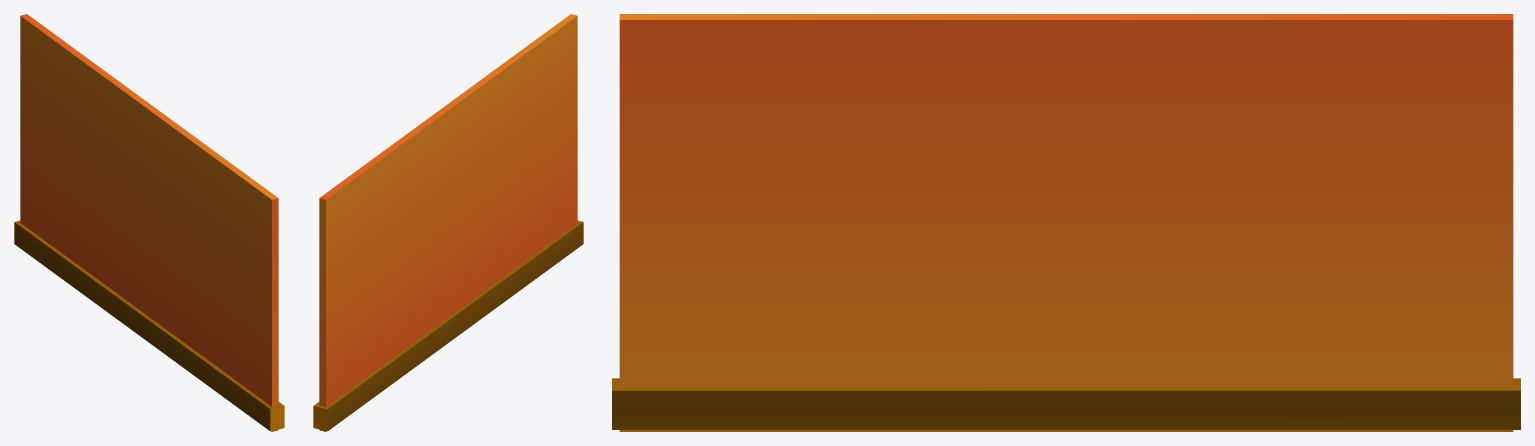
The model's file is Wall3.fbx.
3 renders of one model, left to right at view 1: azimuth 30°, elevation 25°; view 2: azimuth 150°, elevation 25°; view 3: azimuth 270°, elevation 25°, orthographic. The views are drawn at different scales.
Visible parts, largest first — view 1: wall3; view 2: wall3; view 3: wall3.
Boxes of the visible parts, box(x1,y1,x2,y2) form: wall3: box(14, 14, 284, 431); wall3: box(313, 14, 583, 431); wall3: box(612, 14, 1520, 431).
Size of the model in its own units: 15.77 by 246 by 493.
